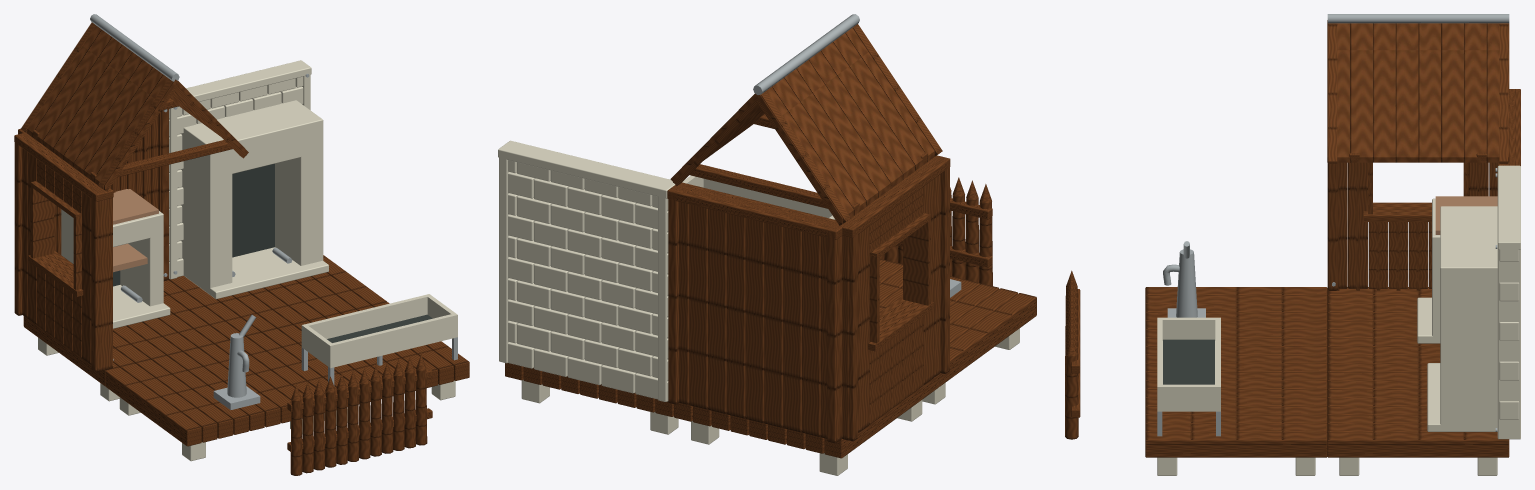
Rendered from rural-scavenging-settlements-assembled-s-b7a9381b-starter-scene__26622.glb.
The picture shows the model from 3 angles, left to right: view 1: azimuth 30°, elevation 25°; view 2: azimuth 150°, elevation 25°; view 3: azimuth 270°, elevation 25°; orthographic projection. The views are drawn at different scales.
Visible parts, largest first — view 1: 008-farmhouse-hearth/0, 006-cottage-window-wall/0, 007-cottage-gable-roof/0, 001-cottage-footing/1, 012-picket-boundary/0, 002-cottage-footing/1, 005-stone-cottage-solid-wall/0, 010-rural-water-trough/0, 000-cottage-footing/1, 003-cottage-footing/1, 009-smokehouse-firebox/0, 008-farmhouse-hearth/1 (+6 smaller); view 2: 004-cottage-solid-wall/0, 005-stone-cottage-solid-wall/0, 007-cottage-gable-roof/0, 006-cottage-window-wall/0, 001-cottage-footing/1, 012-picket-boundary/0, 000-cottage-footing/1, 002-cottage-footing/1, 010-rural-water-trough/0, 007-cottage-gable-roof/1, 000-cottage-footing/0, 002-cottage-footing/0; view 3: 007-cottage-gable-roof/0, 003-cottage-footing/1, 008-farmhouse-hearth/0, 006-cottage-window-wall/0, 002-cottage-footing/1, 001-cottage-footing/1, 000-cottage-footing/1, 005-stone-cottage-solid-wall/0, 010-rural-water-trough/0, 012-picket-boundary/0, 010-rural-water-trough/1, 009-smokehouse-firebox/0 (+6 smaller).
Boxes of the visible parts, bbox=[...] form: 008-farmhouse-hearth/0: bbox=[182, 100, 328, 299]; 006-cottage-window-wall/0: bbox=[14, 133, 113, 372]; 007-cottage-gable-roof/0: bbox=[21, 22, 248, 191]; 001-cottage-footing/1: bbox=[105, 337, 325, 446]; 012-picket-boundary/0: bbox=[287, 354, 432, 475]; 002-cottage-footing/1: bbox=[169, 255, 387, 337]; 005-stone-cottage-solid-wall/0: bbox=[169, 60, 311, 279]; 010-rural-water-trough/0: bbox=[301, 294, 457, 368]; 000-cottage-footing/1: bbox=[23, 280, 245, 386]; 003-cottage-footing/1: bbox=[247, 302, 469, 409]; 009-smokehouse-firebox/0: bbox=[61, 209, 170, 328]; 008-farmhouse-hearth/1: bbox=[232, 163, 274, 257]; 004-cottage-solid-wall/0: bbox=[667, 182, 845, 443]; 005-stone-cottage-solid-wall/0: bbox=[498, 140, 675, 401]; 007-cottage-gable-roof/0: bbox=[670, 24, 942, 225]; 006-cottage-window-wall/0: bbox=[836, 155, 950, 441]; 001-cottage-footing/1: bbox=[879, 258, 1036, 386]; 012-picket-boundary/0: bbox=[879, 177, 992, 285]; 000-cottage-footing/1: bbox=[674, 374, 938, 458]; 002-cottage-footing/1: bbox=[505, 363, 673, 416]; 010-rural-water-trough/0: bbox=[682, 175, 835, 219]; 007-cottage-gable-roof/1: bbox=[753, 14, 859, 94]; 000-cottage-footing/0: bbox=[691, 400, 922, 475]; 002-cottage-footing/0: bbox=[521, 379, 678, 434]; 007-cottage-gable-roof/0: bbox=[1327, 20, 1509, 163]; 003-cottage-footing/1: bbox=[1145, 364, 1327, 457]; 008-farmhouse-hearth/0: bbox=[1427, 206, 1497, 431]; 006-cottage-window-wall/0: bbox=[1327, 162, 1497, 290]; 002-cottage-footing/1: bbox=[1327, 364, 1509, 457]; 001-cottage-footing/1: bbox=[1145, 287, 1327, 364]; 000-cottage-footing/1: bbox=[1327, 287, 1440, 364]; 005-stone-cottage-solid-wall/0: bbox=[1497, 165, 1520, 439]; 010-rural-water-trough/0: bbox=[1157, 317, 1220, 411]; 012-picket-boundary/0: bbox=[1065, 270, 1080, 439]; 010-rural-water-trough/1: bbox=[1163, 339, 1214, 384]; 009-smokehouse-firebox/0: bbox=[1417, 198, 1440, 343].
Size of the model in its own units: 4.16 by 4.27 by 5.01.
Materials: 5 (1 with a texture image).
